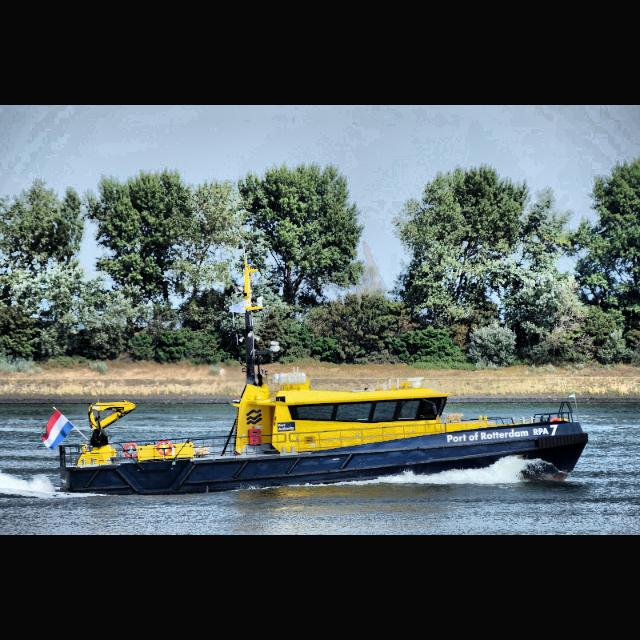patrol_vessel: (39, 350, 594, 498)
